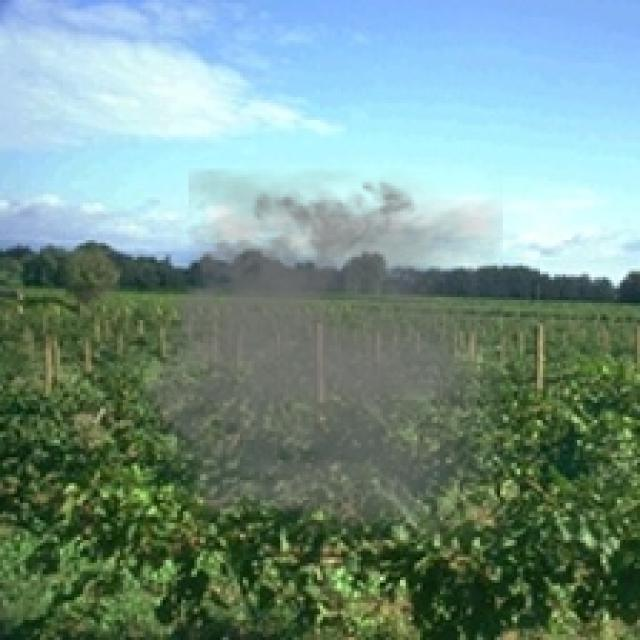smoke: (126, 169, 503, 537)
